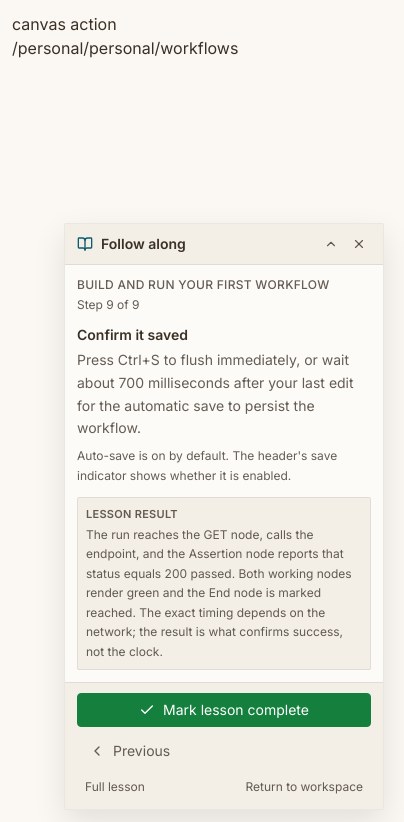
Test case: TutorialCompanionHost › keeps the last step reachable and marks complete explicitly
Click the button "Mark lesson complete" at (224, 710), box [77,693,371,727]
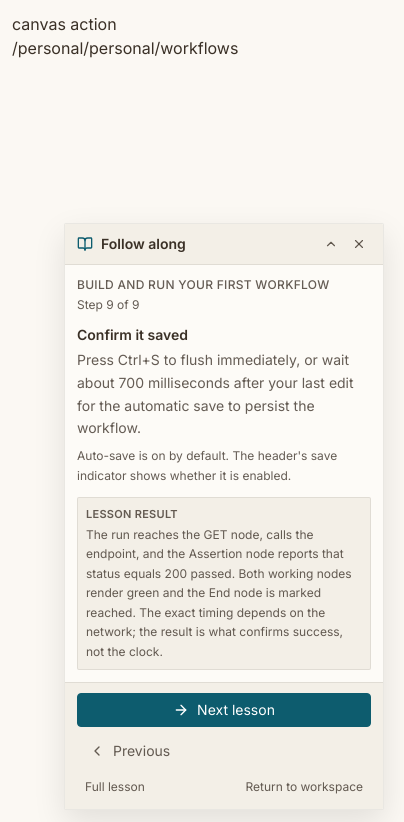
Expected: the button "Next lesson" is shown, [77,693,371,727]
